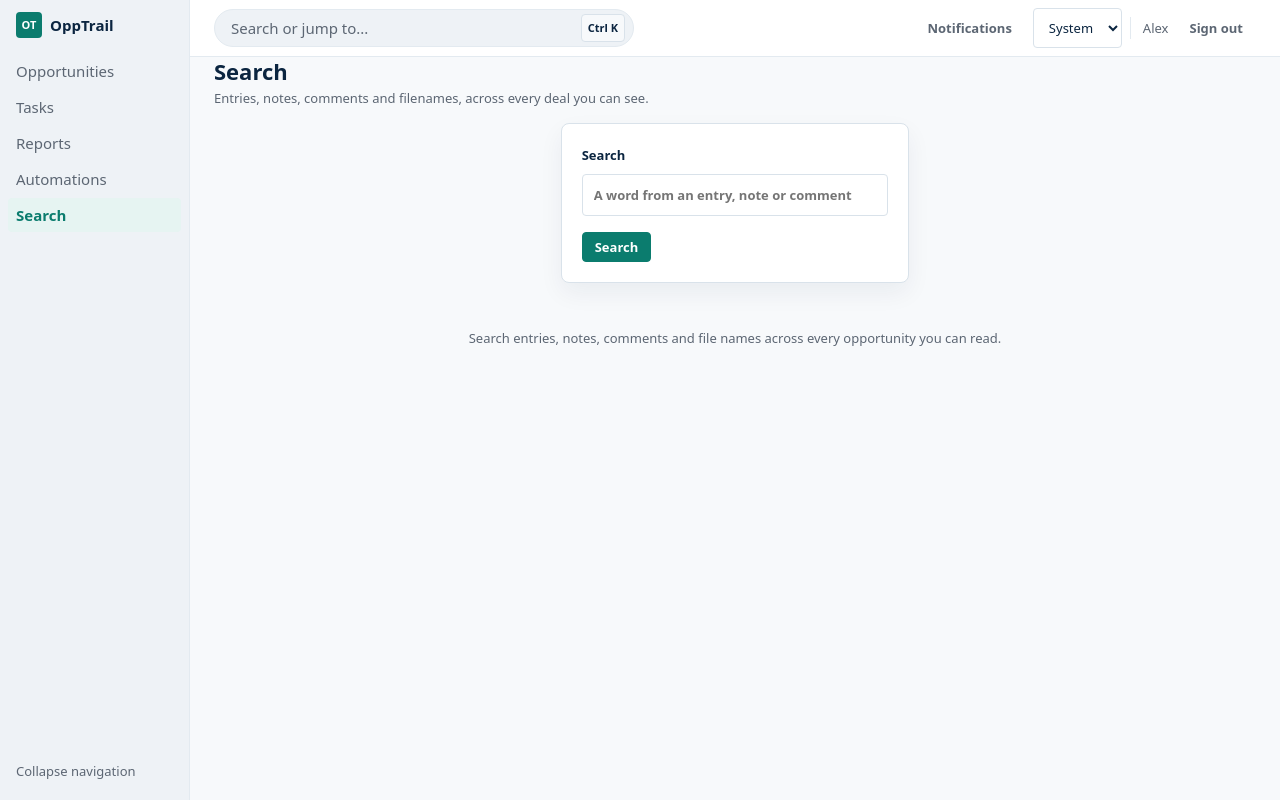
Test: the command palette › goes back to the board from the search page
Expected: the heading "Search" is shown, [214,56,288,86]
Type keys "{Control>}k{/Control}"
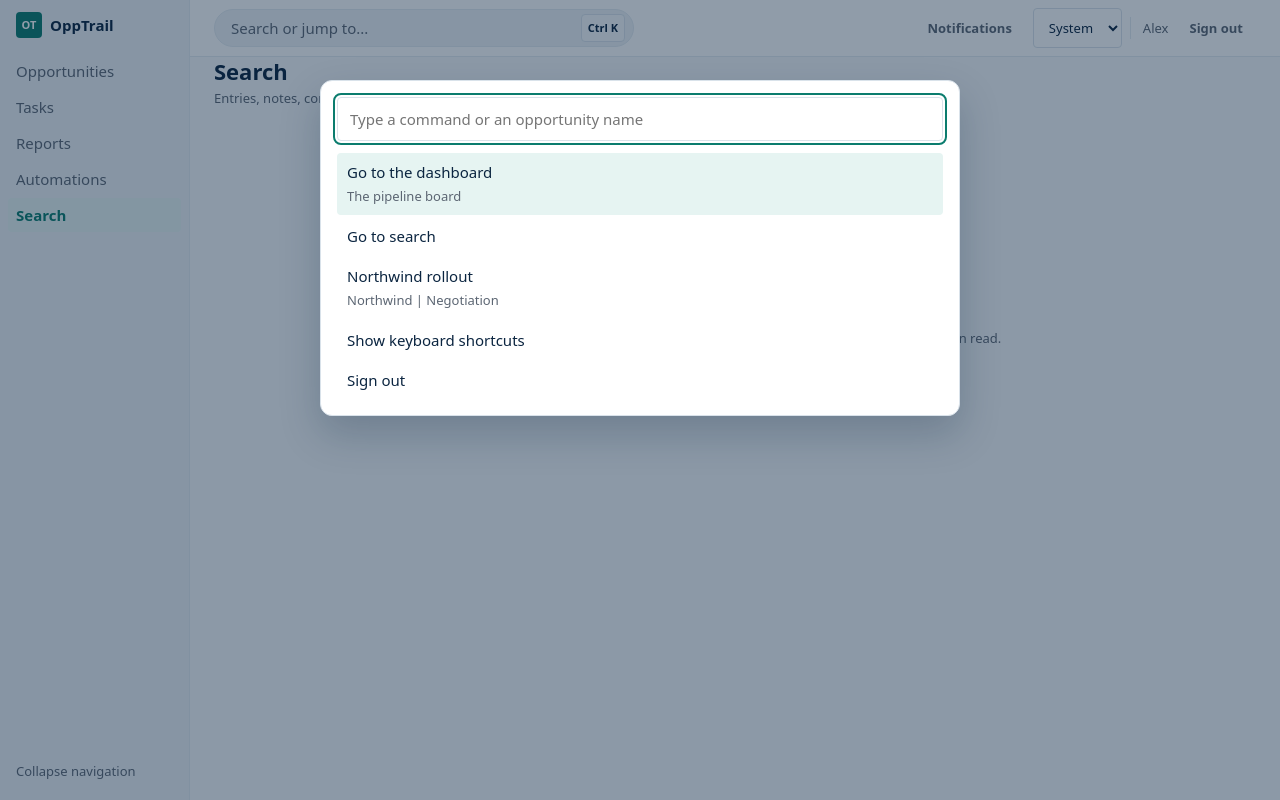
Click the option "Go to the dashboard The pipeline board". click: [420, 172]
box: [337,153,943,215]
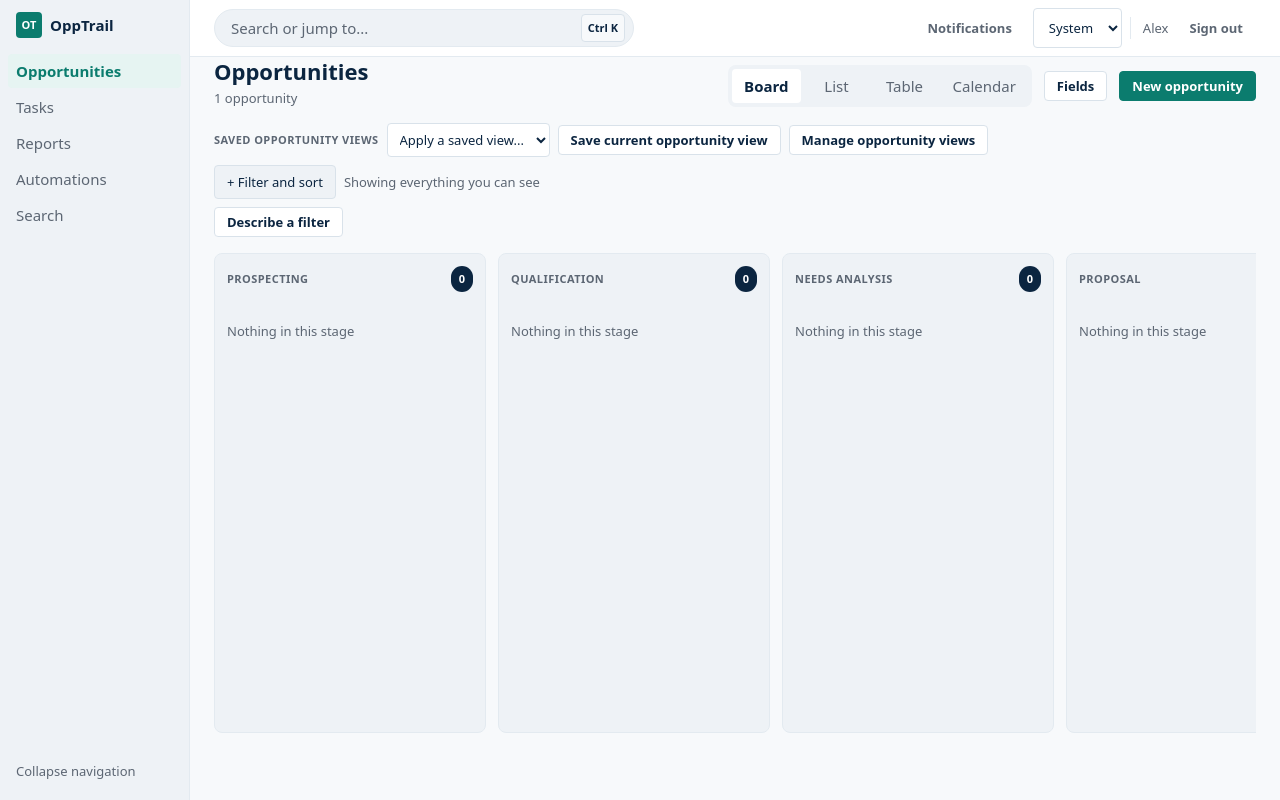
Result: the heading "Opportunities" is shown at [214,57,368,85]
